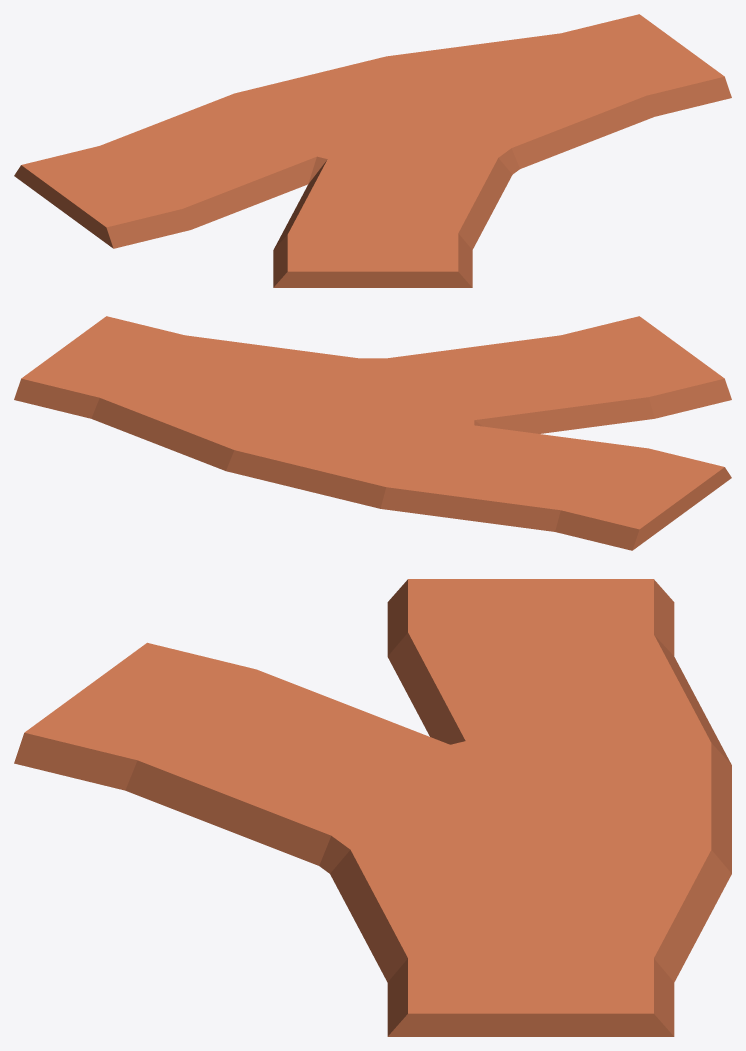
Rendered from path_intersectionC.dae.
3 renders of one model, top to bottom at view 1: azimuth 30°, elevation 25°; view 2: azimuth 150°, elevation 25°; view 3: azimuth 270°, elevation 25°, orthographic. The views are drawn at different scales.
Visible parts, largest first — view 1: path_intersectionC; view 2: path_intersectionC; view 3: path_intersectionC.
Part boxes in pixels (left/top/right/bottom): path_intersectionC: left=14, top=14, right=731, bottom=287; path_intersectionC: left=14, top=316, right=731, bottom=550; path_intersectionC: left=14, top=579, right=731, bottom=1036.
Bounding box in the file's own units: 1 × 0.025 × 0.6983.
